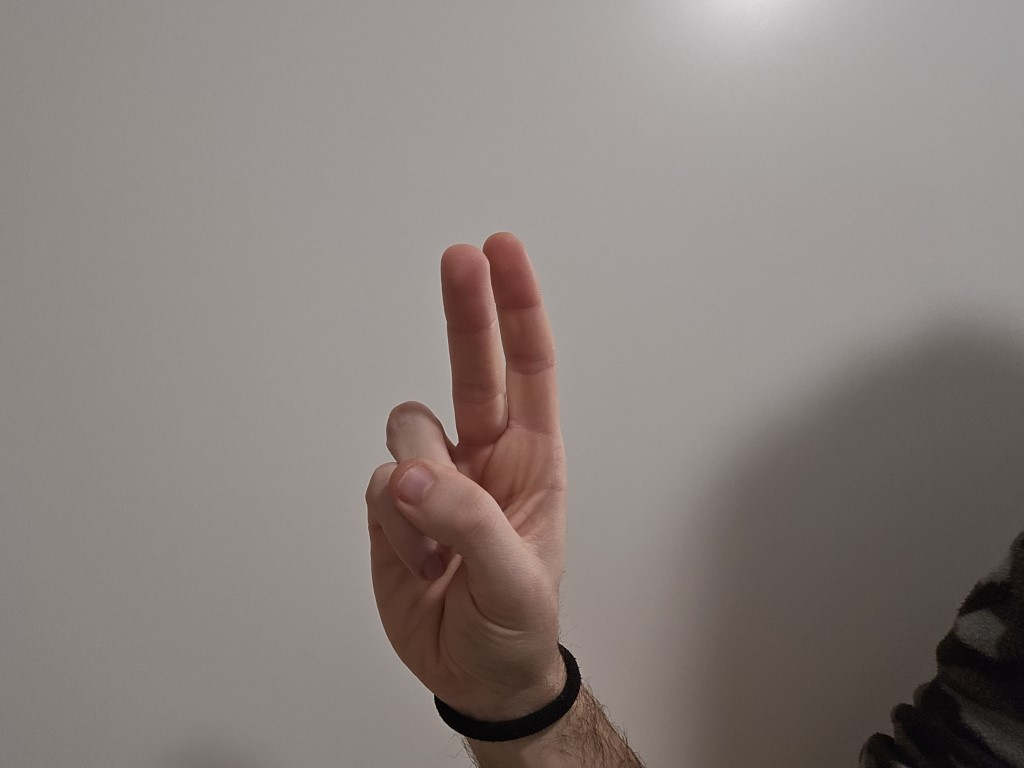r: (325, 228, 597, 705)
